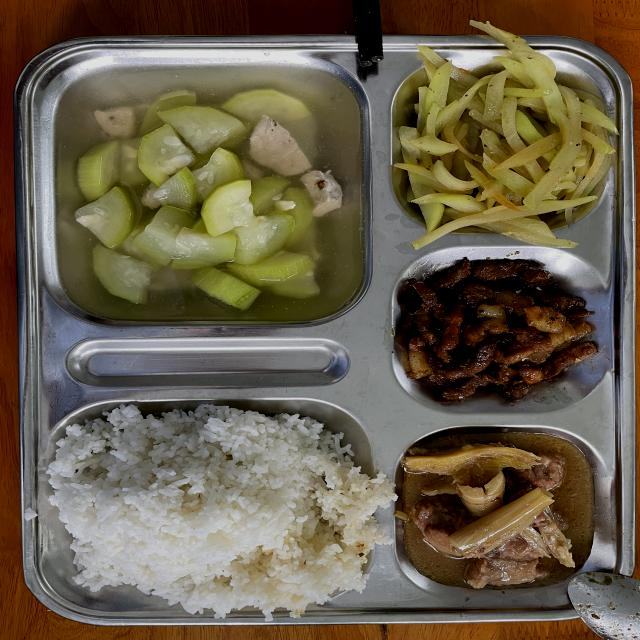bo xao: (409, 494, 574, 588), (505, 455, 564, 502), (456, 483, 497, 510)
canh bau: (52, 64, 364, 322)
com: (47, 405, 395, 620)
kho tieu: (406, 260, 598, 401)
rau: (393, 21, 619, 249)
